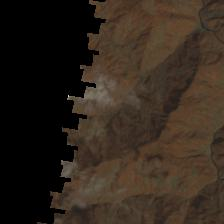landslides: (210, 74, 219, 87)
